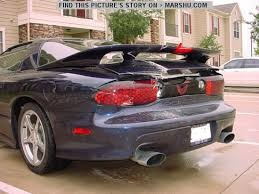Scratch: (149, 62, 175, 102), (148, 111, 190, 122)
